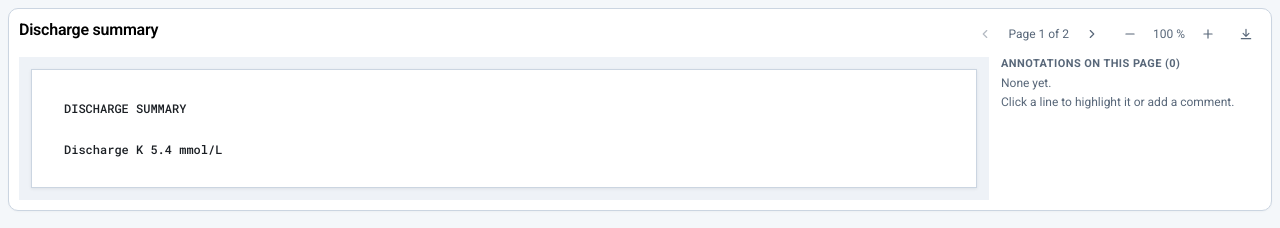
Test case: DocumentViewer › pages and zooms
Expected: the button named "Previous page" is disabled, [970,19,1000,49]
Click the button named "Next page": (1092, 34) [1077,19,1107,49]
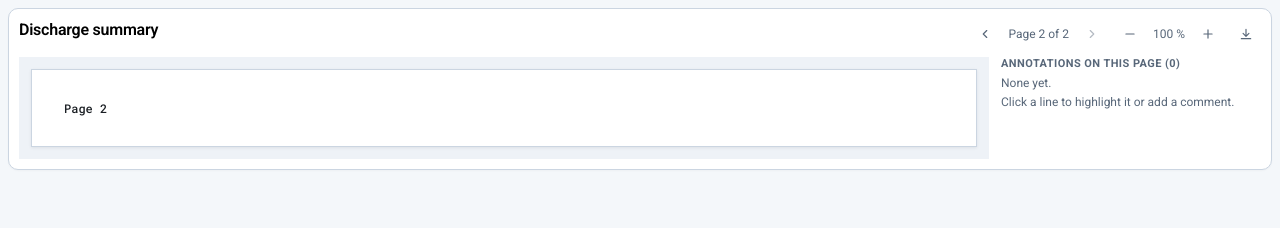
Expected: the text "100 %" is shown, [1153,27,1185,41]
Now the text "Page 2 of 2" is shown, box [1008,27,1069,41]
Now the element "Page 2" is shown, box [31,69,977,147]
Click the button named "Zoom out": (1130, 34) [1115,19,1145,49]
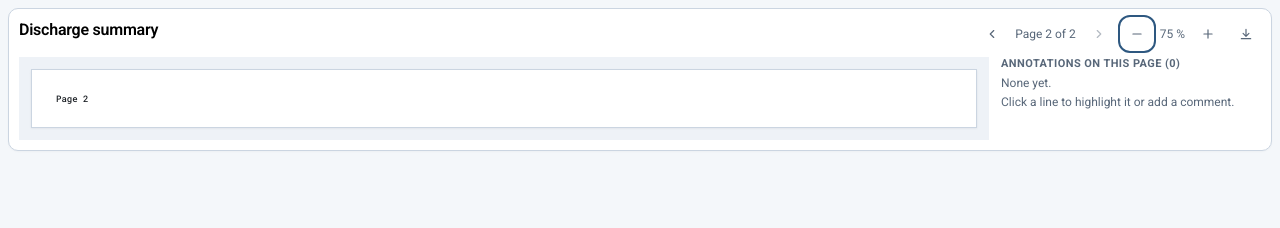
Click the button named "Zoom out": (1137, 34) [1122,19,1152,49]
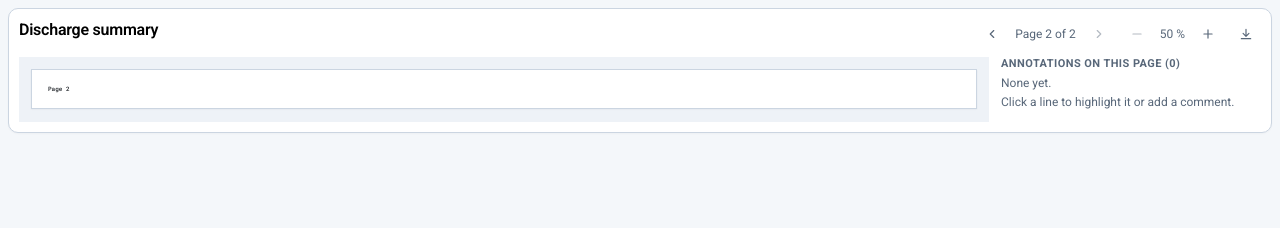
Now the text "50 %" is shown, box [1160,27,1185,41]
